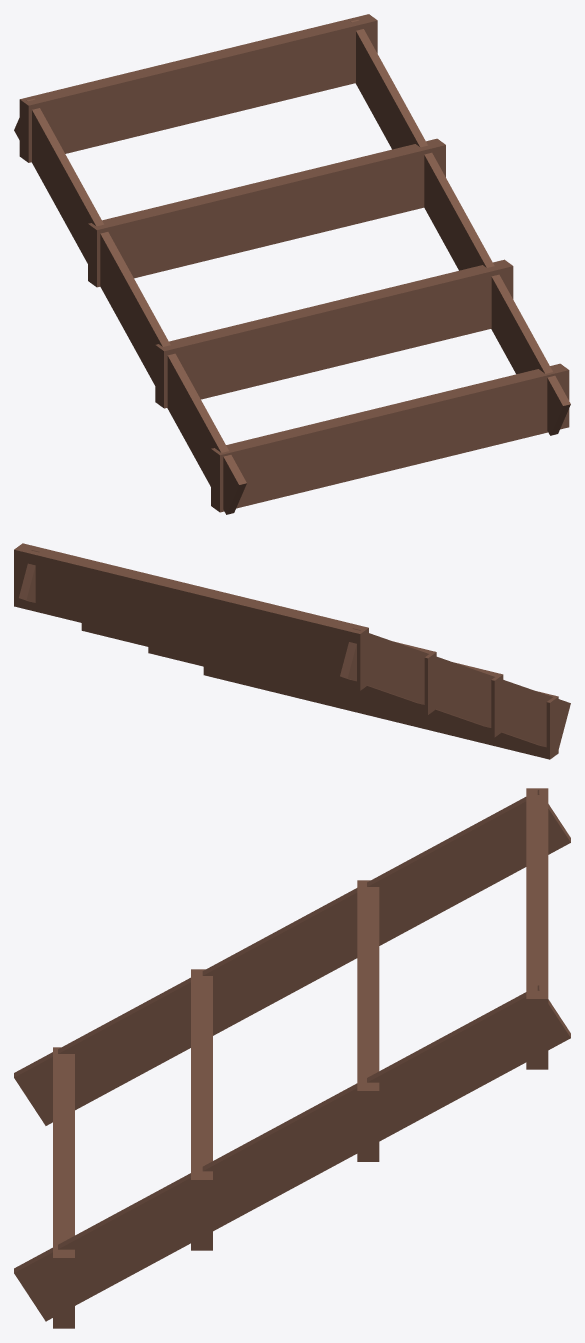
File: base_sup_apoio.fbx
3 renders of one model, top to bottom at view 1: azimuth 30°, elevation 25°; view 2: azimuth 150°, elevation 25°; view 3: azimuth 270°, elevation 25°, orthographic. The views are drawn at different scales.
Parts seen in each view (by area): view 1: base_sup_apoio; view 2: base_sup_apoio; view 3: base_sup_apoio.
Boxes of the visible parts, box(x1,y1,x2,y2) form: base_sup_apoio: box(14, 14, 570, 514); base_sup_apoio: box(14, 543, 570, 759); base_sup_apoio: box(14, 788, 570, 1328).
Size of the model in its own units: 215 by 158 by 240.
